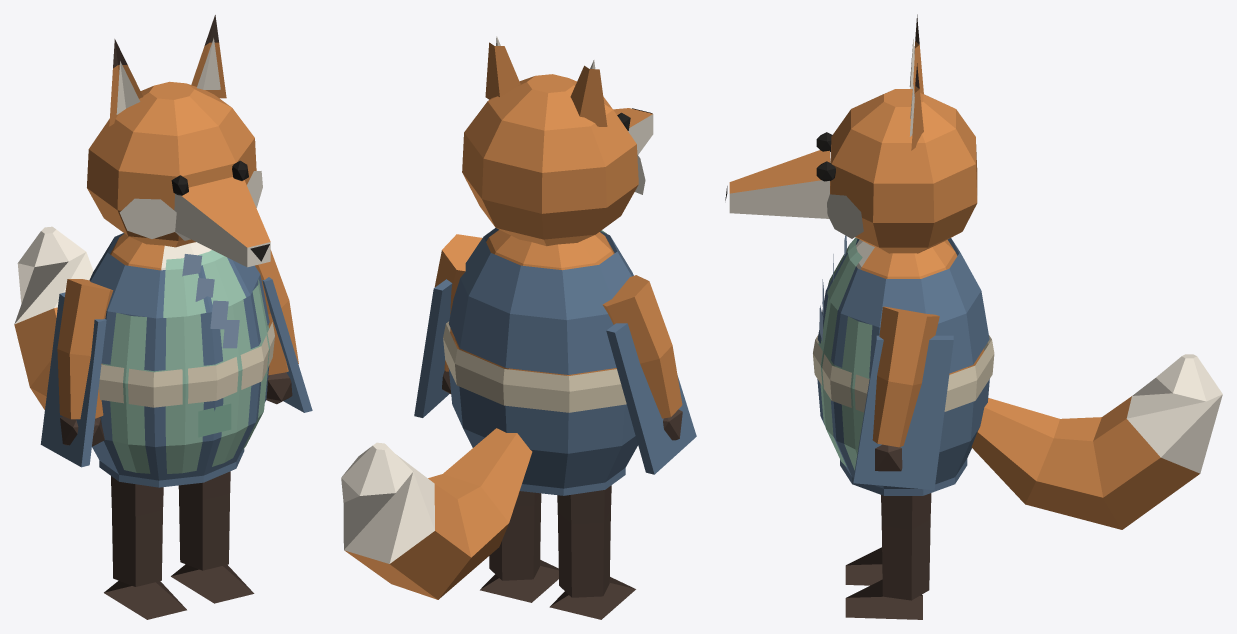
The model's file is fox.glb.
3 renders of one model, left to right at view 1: azimuth 30°, elevation 25°; view 2: azimuth 150°, elevation 25°; view 3: azimuth 270°, elevation 25°, orthographic. The views are drawn at different scales.
Visible parts, largest first — view 1: head, kimono, apron, leg_L, tail, leg_R, arm_L, kimono_sleeve_L, arm_R, body, kimono_sleeve_R, ear_R (+1 smaller); view 2: kimono, head, tail, leg_L, arm_L, kimono_sleeve_L, leg_R, body, kimono_sleeve_R, arm_R, ear_L, ear_R; view 3: tail, head, kimono, kimono_sleeve_R, leg_R, arm_R, apron, body, leg_L, ear_R.
Boxes of the visible parts, x1,y1,x2,y2 form: head: (87,81,270,267); kimono: (89,233,274,487); apron: (102,250,269,473); leg_L: (104,476,186,619); tail: (14,226,93,409); leg_R: (171,471,254,603); arm_L: (57,279,113,446); kimono_sleeve_L: (40,292,106,467); arm_R: (255,250,298,404); body: (110,233,211,270); kimono_sleeve_R: (262,277,312,412); ear_R: (191,15,226,98); kimono: (443,228,637,495); head: (462,74,653,246); tail: (341,428,532,599); leg_L: (549,485,635,619); arm_L: (602,275,682,440); kimono_sleeve_L: (606,323,696,474); leg_R: (480,491,558,602); body: (454,230,616,375); kimono_sleeve_R: (414,279,452,417); arm_R: (434,234,482,393); ear_L: (570,60,607,126); ear_R: (485,36,520,99); tail: (971,354,1222,529); head: (725,89,977,253); kimono: (813,235,994,495); kimono_sleeve_R: (853,335,953,490); leg_R: (845,493,931,619); arm_R: (872,306,939,471); apron: (818,237,872,470); body: (856,239,984,374); leg_L: (845,547,882,585); ear_R: (909,63,923,150).
Bounding box in the file's own units: 0.0696 × 0.158 × 0.1289.
